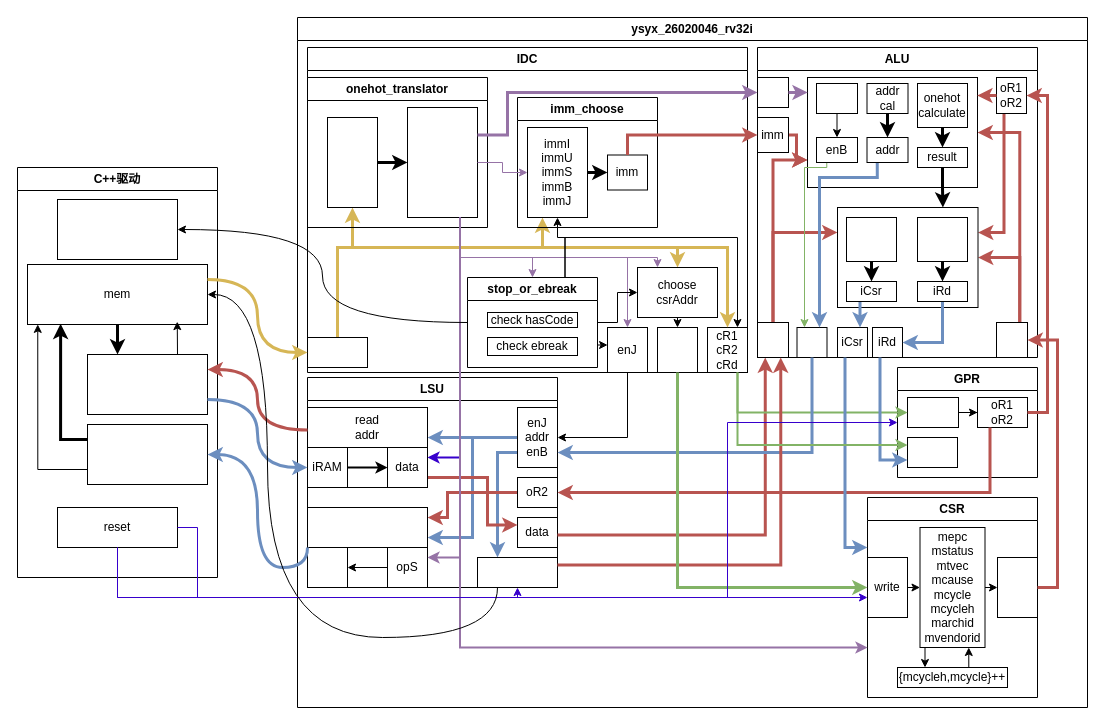
This 1105x725 diagram has some shape labels left out. Each missing label, with the centre of its shape:
"addr enB" belongs at (811,342).
"bFun Check" belongs at (837,98).
"code" belongs at (337,352).
"cR1 cR2" belongs at (932,412).
"cRd iRd" belongs at (932,452).
"csr addr" belongs at (677,349).
"iCsr choose" belongs at (871,239).
"iRd chose" belongs at (942,239).
"mask" belongs at (327,567).
"oCsr" belongs at (1012,340).
"op" belongs at (772,92).
"opcode fun3 fun7" belongs at (352,162).
"opCode opIcod opRcod opBfun opLfun opSfun opCsrr" belongs at (442,162).
"pc data" belongs at (772,340).
"pc snpc dnpc" belongs at (517,572).
"pmem_read" belongs at (147,384).
"pmem_write" belongs at (147,454).
"read" belongs at (1017,587).
"stop" belongs at (117,229).
"write addr oR2" belongs at (367,527).
